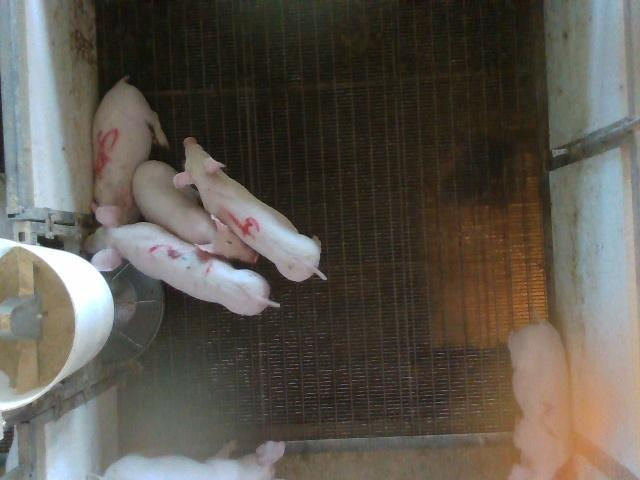pig-1: (101, 441, 284, 479)
pig-2: (509, 321, 572, 478)
pig-3: (85, 206, 280, 314)
pig-4: (174, 138, 326, 281)
pig-5: (92, 76, 169, 223)
